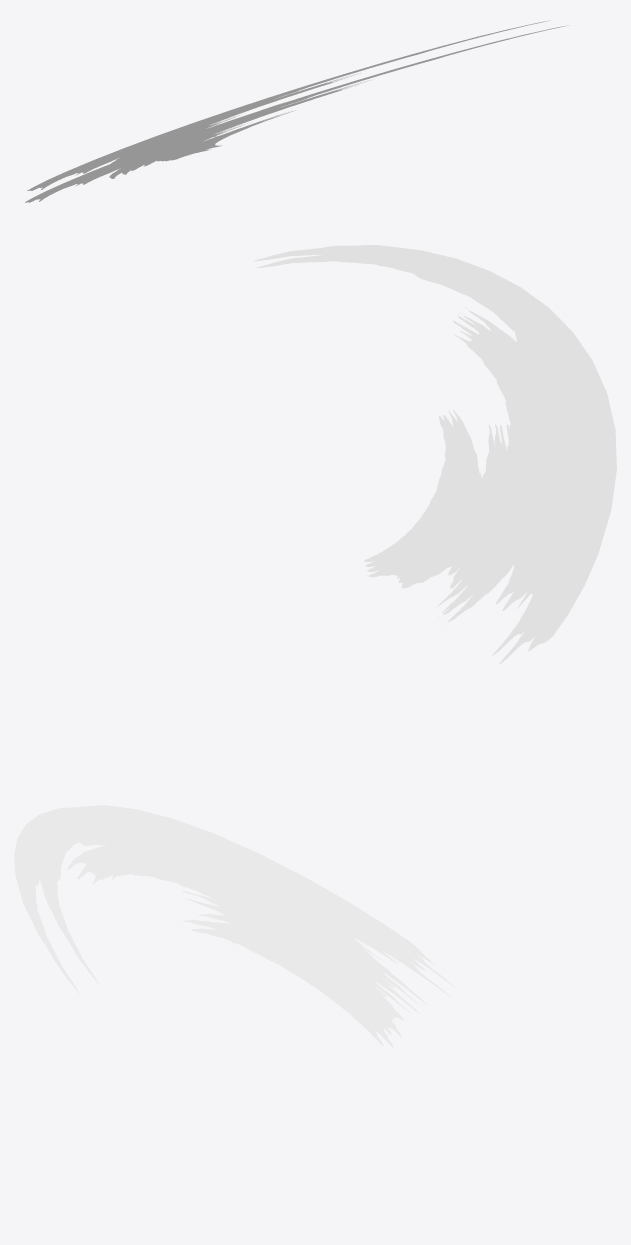
File: fx_cookie0009_skill01.fbx
3 renders of one model, top to bottom at view 1: azimuth 30°, elevation 25°; view 2: azimuth 150°, elevation 25°; view 3: azimuth 270°, elevation 25°, orthographic. The views are drawn at different scales.
Visible parts, largest first — view 1: scratch_trail_01, scratch_trail_02; view 2: scratch_trail_02, scratch_trail_01; view 3: scratch_trail_02, scratch_trail_01.
Part boxes in pixels (left/top/right/bottom): scratch_trail_01: left=25, top=25, right=568, bottom=202; scratch_trail_02: left=27, top=20, right=550, bottom=190; scratch_trail_02: left=255, top=252, right=605, bottom=655; scratch_trail_01: left=253, top=245, right=616, bottom=664; scratch_trail_02: left=36, top=805, right=455, bottom=1037; scratch_trail_01: left=14, top=807, right=450, bottom=1047.
Bounding box in the file's own units: 475 × 243 × 357.
